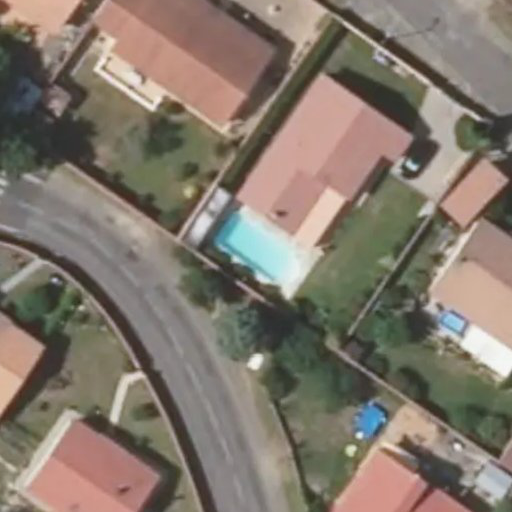pool: (215, 236, 296, 247)
